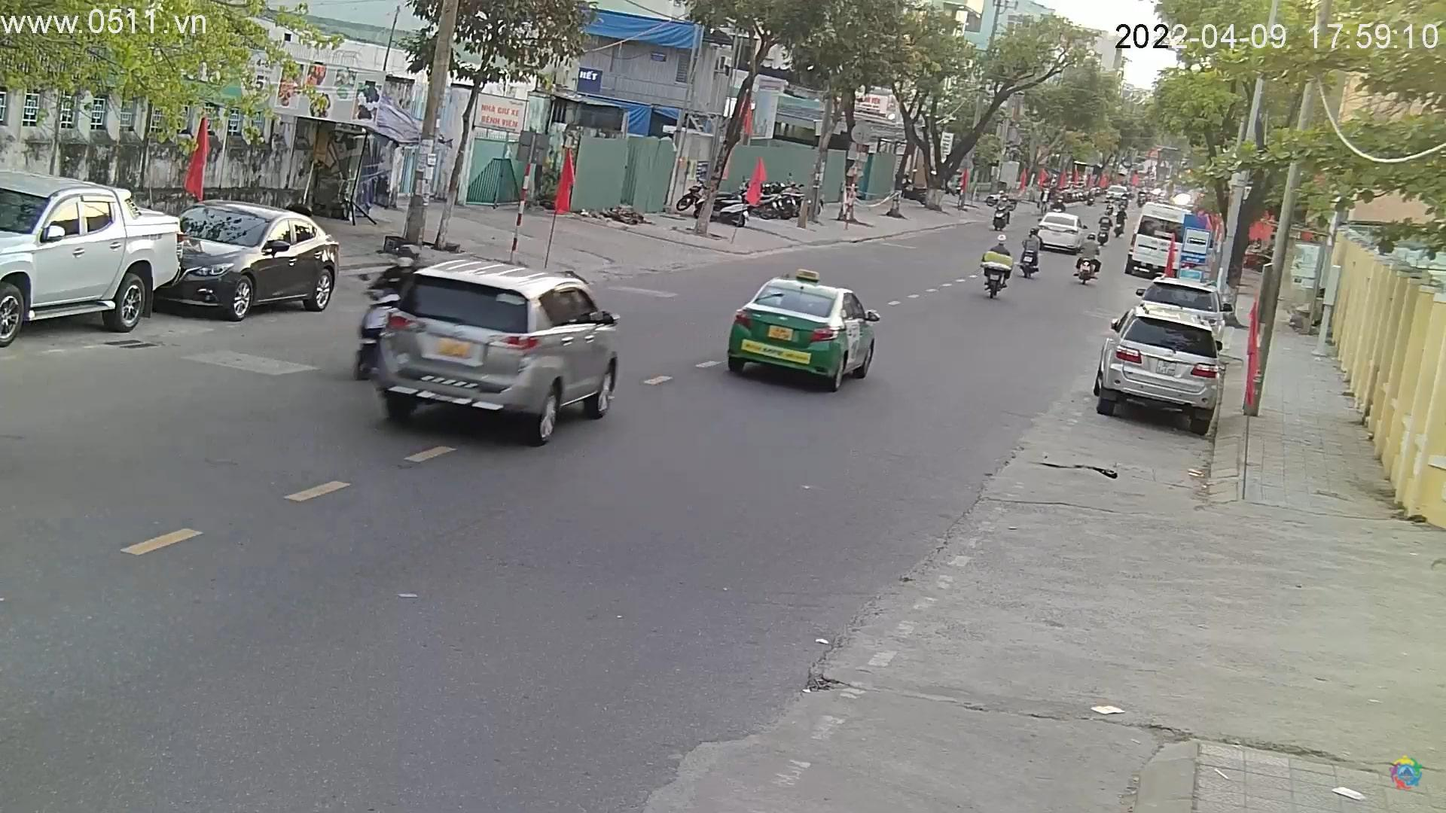car: (358, 256, 627, 446), (2, 165, 184, 355), (160, 202, 346, 322), (719, 274, 875, 392), (1095, 301, 1221, 432)
motorbike: (983, 264, 1013, 299), (1019, 242, 1043, 284), (1072, 254, 1103, 286)
